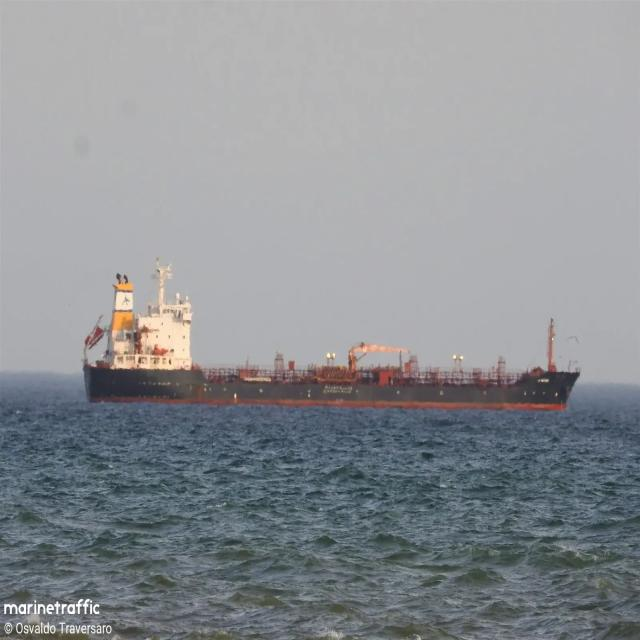Tanker: (83, 265, 580, 409)
